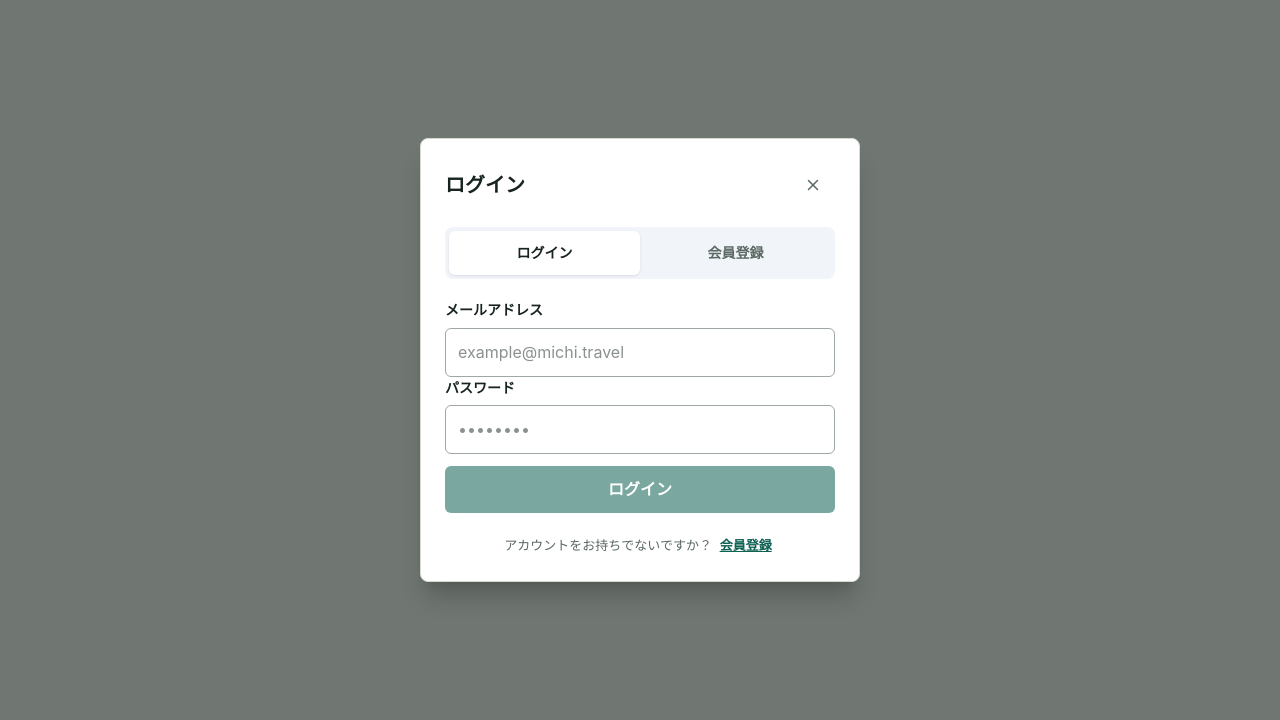
Test: AuthModal › should render login mode and allow switching to register
Expected: the heading "ログイン" is shown, [445,172,525,198]
# Click register tab
Click the tab "会員登録" at {"x": 736, "y": 253}, box [640,231,831,275]
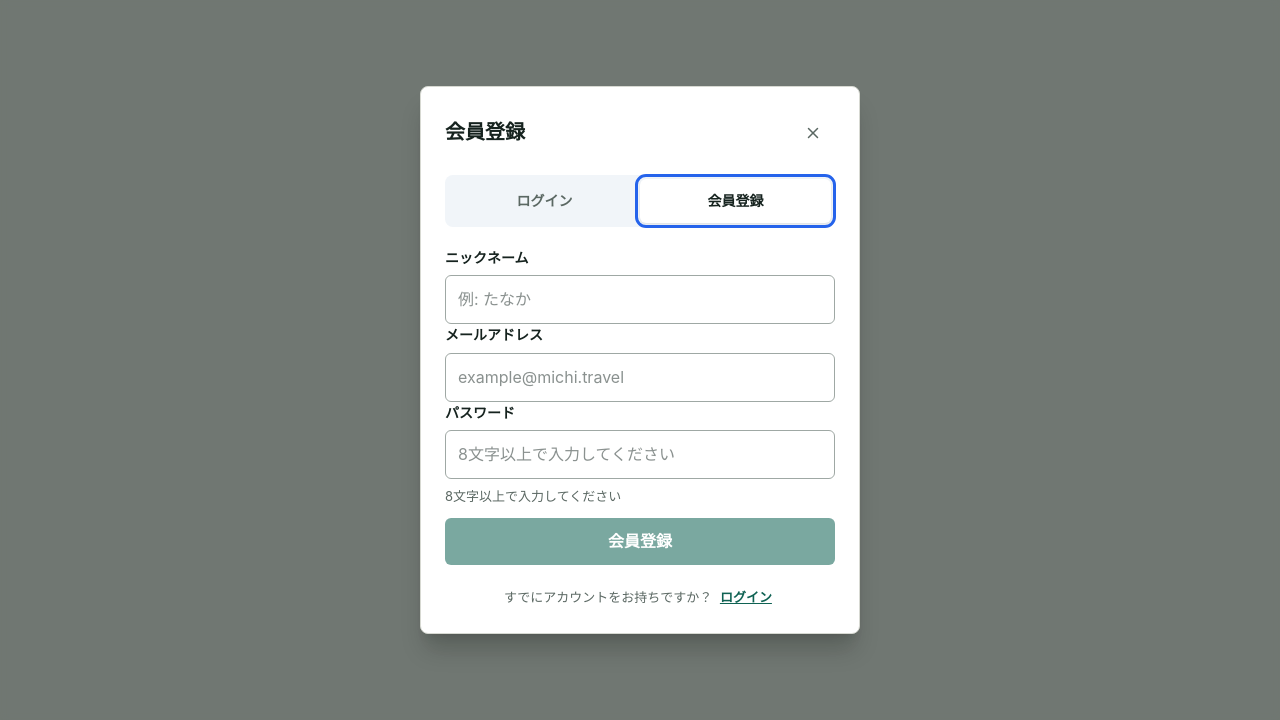
Expected: the field labelled "ニックネーム" is shown, [445,275,835,324]
